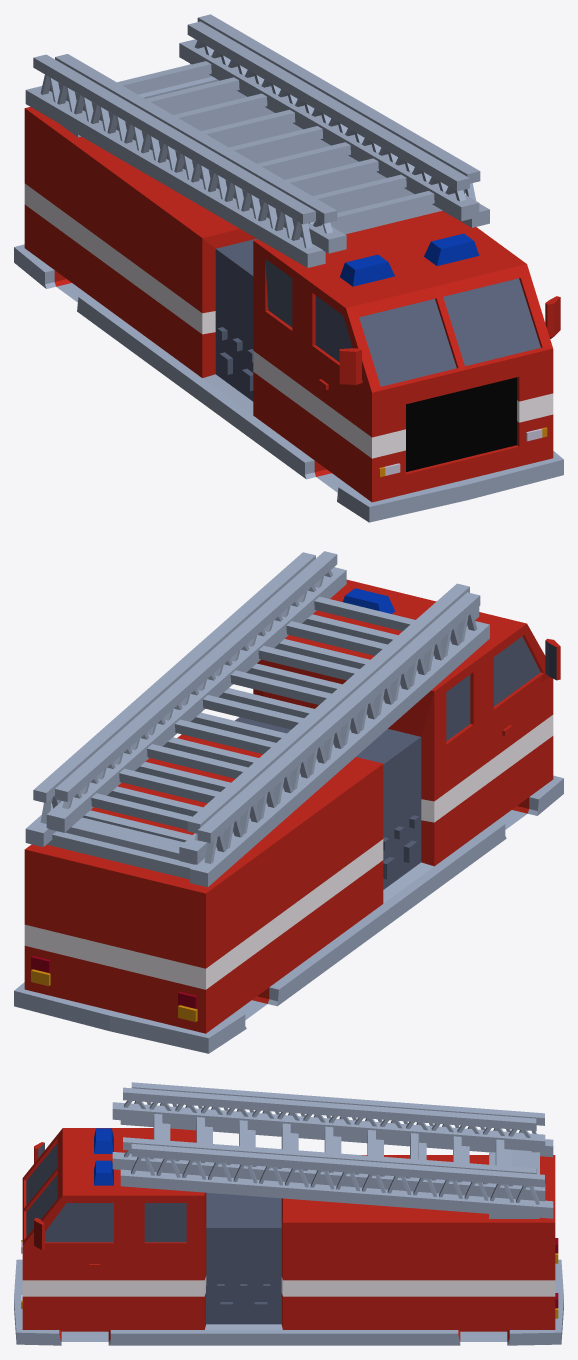
The model's file is Firetruck.glb.
3 renders of one model, top to bottom at view 1: azimuth 30°, elevation 25°; view 2: azimuth 150°, elevation 25°; view 3: azimuth 270°, elevation 25°, orthographic. The views are drawn at different scales.
Parts seen in each view (by area): view 1: Firetruck; view 2: Firetruck; view 3: Firetruck.
Part boxes in pixels (left/top/right/bottom): Firetruck: left=14, top=14, right=563, bottom=522; Firetruck: left=14, top=551, right=563, bottom=1053; Firetruck: left=14, top=1082, right=563, bottom=1345.
Bounding box in the file's own units: 341 × 373 × 960.
